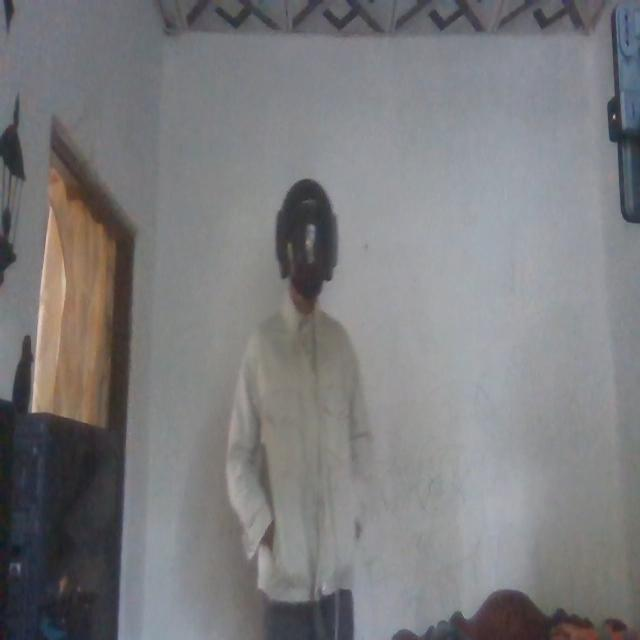Helmet_Wearer: (268, 180, 342, 322)
Jacket_Wearer: (225, 305, 373, 600)
Person: (225, 179, 374, 640)
